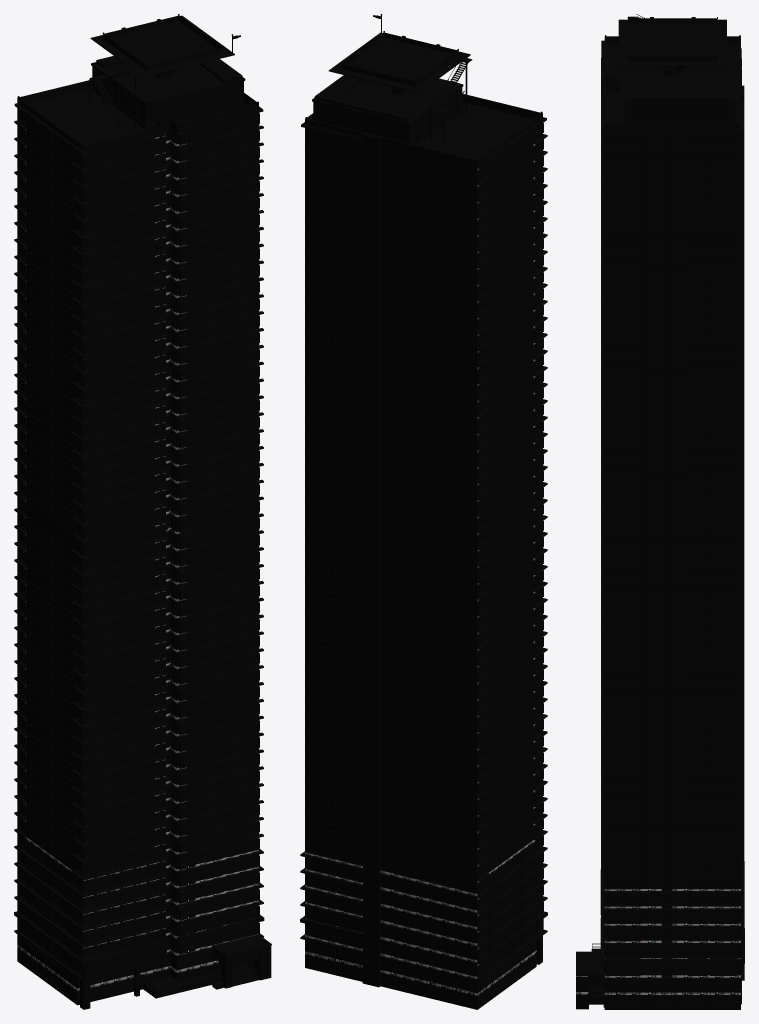
Rendered from HighriseTower103_L1_5x4.fbx.
3 renders of one model, left to right at view 1: azimuth 30°, elevation 25°; view 2: azimuth 150°, elevation 25°; view 3: azimuth 270°, elevation 25°, orthographic. The views are drawn at different scales.
Parts seen in each view (by area): view 1: HighriseTower103_L1_5x4; view 2: HighriseTower103_L1_5x4; view 3: HighriseTower103_L1_5x4.
Part boxes in pixels (x1,y1,x2,y2): HighriseTower103_L1_5x4: (14, 14, 271, 1009); HighriseTower103_L1_5x4: (300, 14, 547, 1009); HighriseTower103_L1_5x4: (576, 14, 744, 1009).
Size of the model in its own units: 3320 by 16248 by 2600.
Materials: 1 (1 with a texture image).
